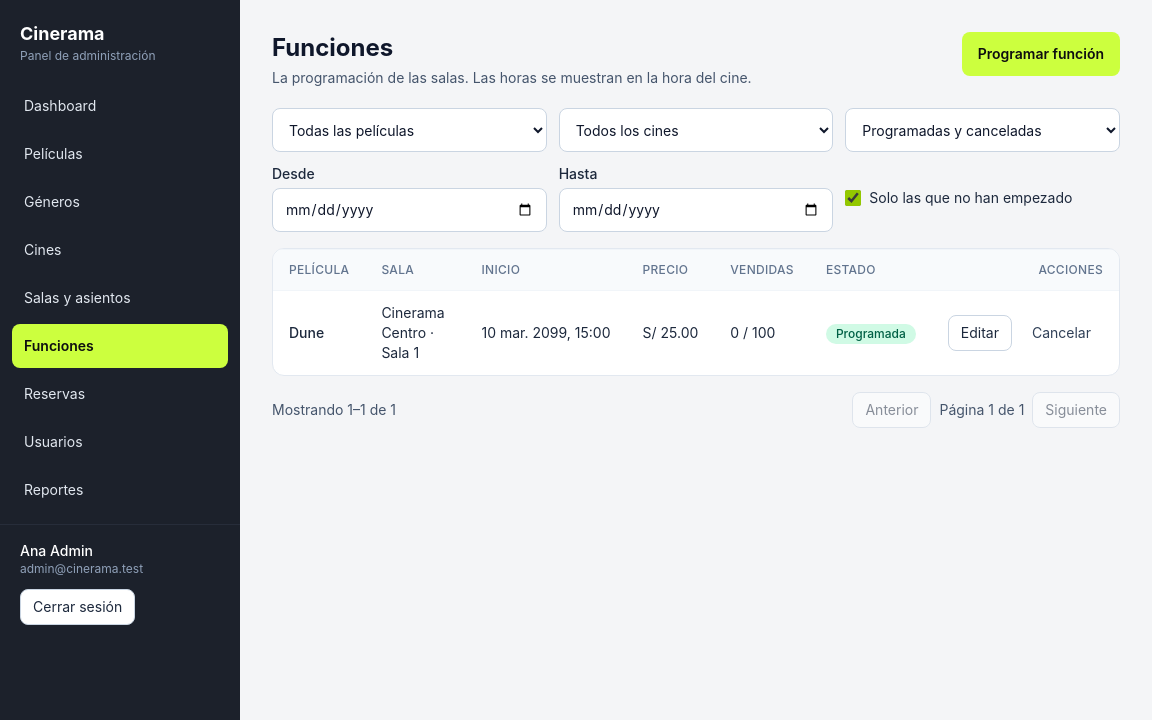
it: Funciones › la advertencia usa el dato fresco: si un cliente reservó después de cargar la lista, se cuenta (defecto hallado en el recorrido real)
Step 1. Click the button with aria-label "Cancelar la función de Dune" → (1062, 333), box [1020,315,1103,351]
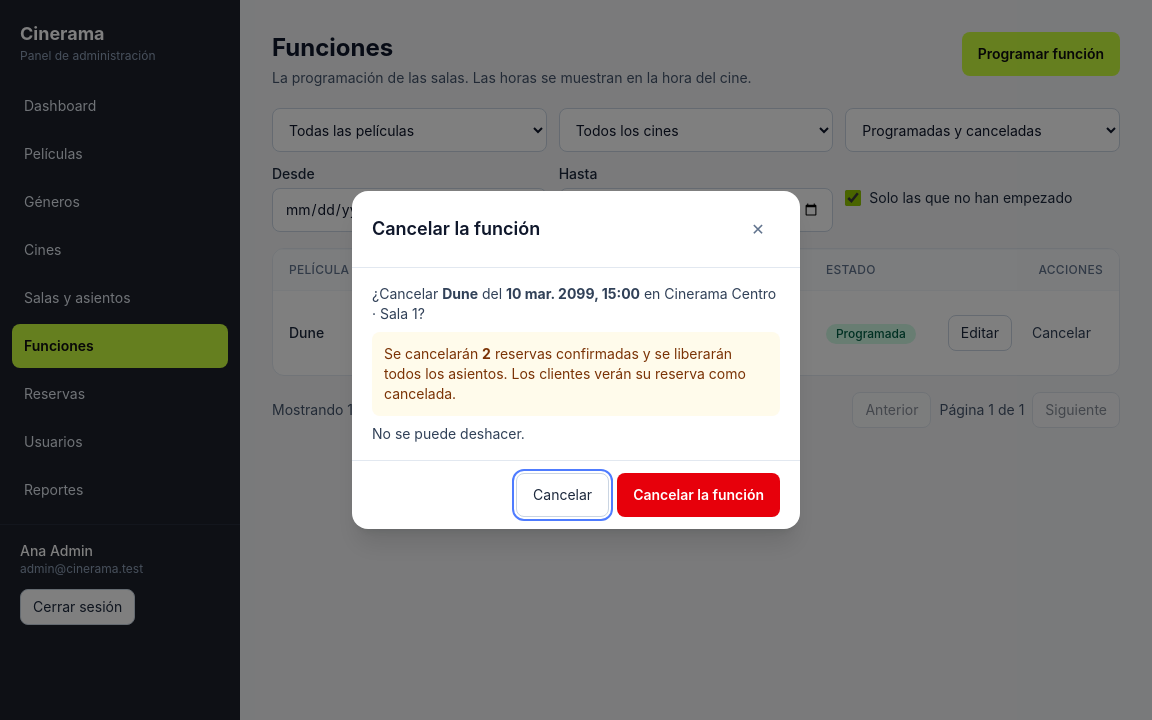
Check: the dialog "Cancelar la función" does not show "No tiene reservas confirmadas", box [352,191,800,529]
Check: the text "Se cancelarán" shows "2 reservas confirmadas", box [372,332,780,416]
